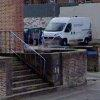stairs: (12, 57, 58, 100)
